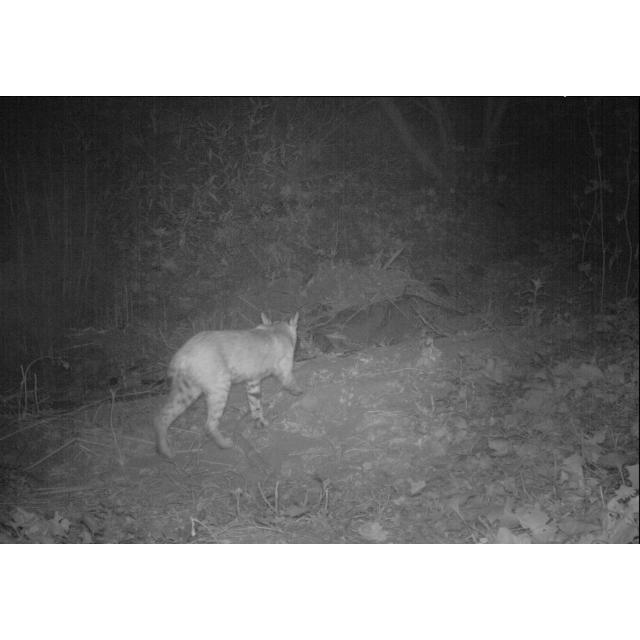animals: (151, 309, 303, 463)
